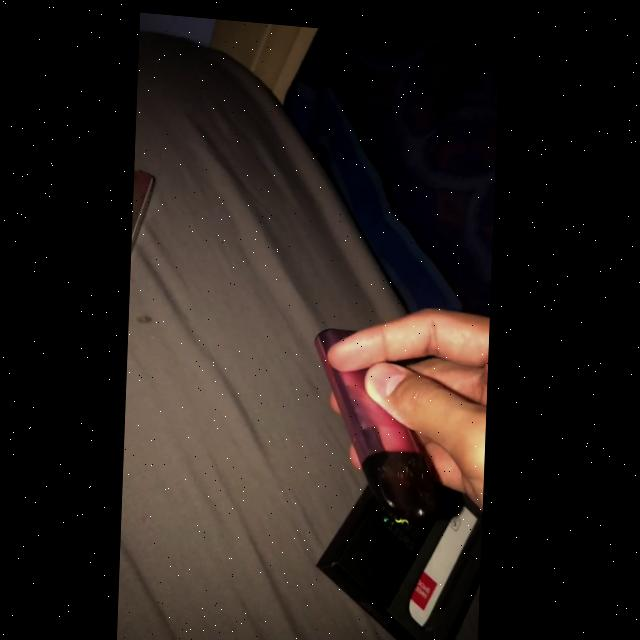vape: (311, 319, 452, 520)
